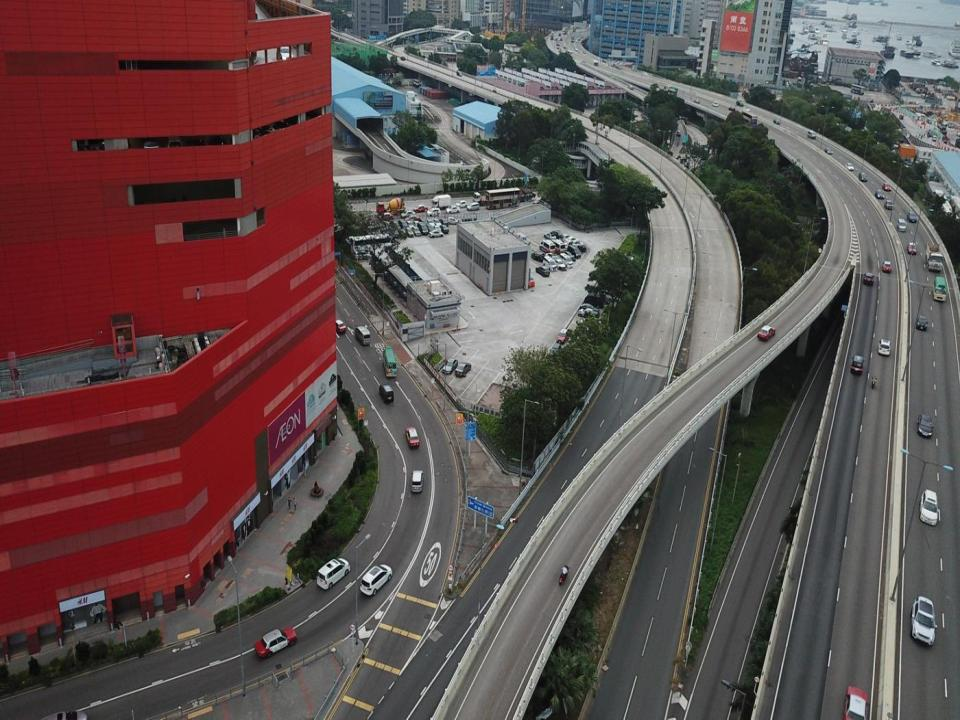bus: (484, 187, 521, 210), (383, 346, 397, 378), (933, 276, 948, 301)
car: (254, 625, 298, 661), (909, 596, 938, 647), (315, 557, 352, 592), (359, 563, 394, 597), (839, 684, 869, 719), (919, 488, 939, 526), (916, 413, 934, 440), (410, 466, 426, 495), (404, 424, 420, 450), (596, 286, 616, 306), (378, 381, 395, 404), (757, 324, 777, 342), (850, 354, 866, 374), (454, 361, 472, 377), (539, 237, 555, 255), (877, 338, 893, 356), (576, 302, 598, 315), (530, 247, 547, 263), (444, 357, 458, 376), (567, 239, 586, 253), (578, 307, 600, 319), (543, 255, 558, 272), (548, 237, 564, 252), (536, 264, 552, 278), (568, 242, 581, 259), (416, 220, 429, 237), (560, 251, 572, 269), (556, 328, 569, 344), (916, 315, 929, 331), (334, 316, 346, 333), (409, 221, 421, 238), (551, 256, 565, 270), (862, 270, 874, 286), (562, 248, 575, 262), (906, 209, 918, 224), (881, 258, 893, 273), (549, 344, 562, 357), (906, 241, 918, 255), (897, 216, 907, 232), (550, 229, 562, 242), (445, 215, 459, 226), (883, 197, 894, 211), (412, 203, 427, 213), (466, 201, 479, 212), (425, 217, 436, 230), (412, 216, 422, 230), (875, 187, 885, 201), (438, 222, 449, 234), (398, 218, 408, 231), (405, 218, 414, 232), (446, 205, 459, 214), (543, 231, 556, 240), (405, 225, 414, 238), (398, 225, 406, 239), (424, 223, 434, 234), (456, 199, 466, 210), (882, 181, 892, 192), (427, 208, 440, 216), (432, 223, 442, 233), (858, 172, 867, 183), (433, 216, 442, 226), (825, 146, 834, 156), (772, 117, 781, 126), (846, 162, 854, 172), (735, 98, 743, 108), (741, 106, 751, 112), (710, 99, 718, 106), (692, 98, 700, 104), (676, 129, 682, 137), (728, 105, 734, 112)
truck: (471, 188, 536, 206), (375, 197, 409, 223), (925, 242, 944, 273), (430, 192, 451, 210), (663, 83, 678, 100)
van: (354, 324, 371, 346), (583, 291, 605, 307), (806, 129, 817, 141)
